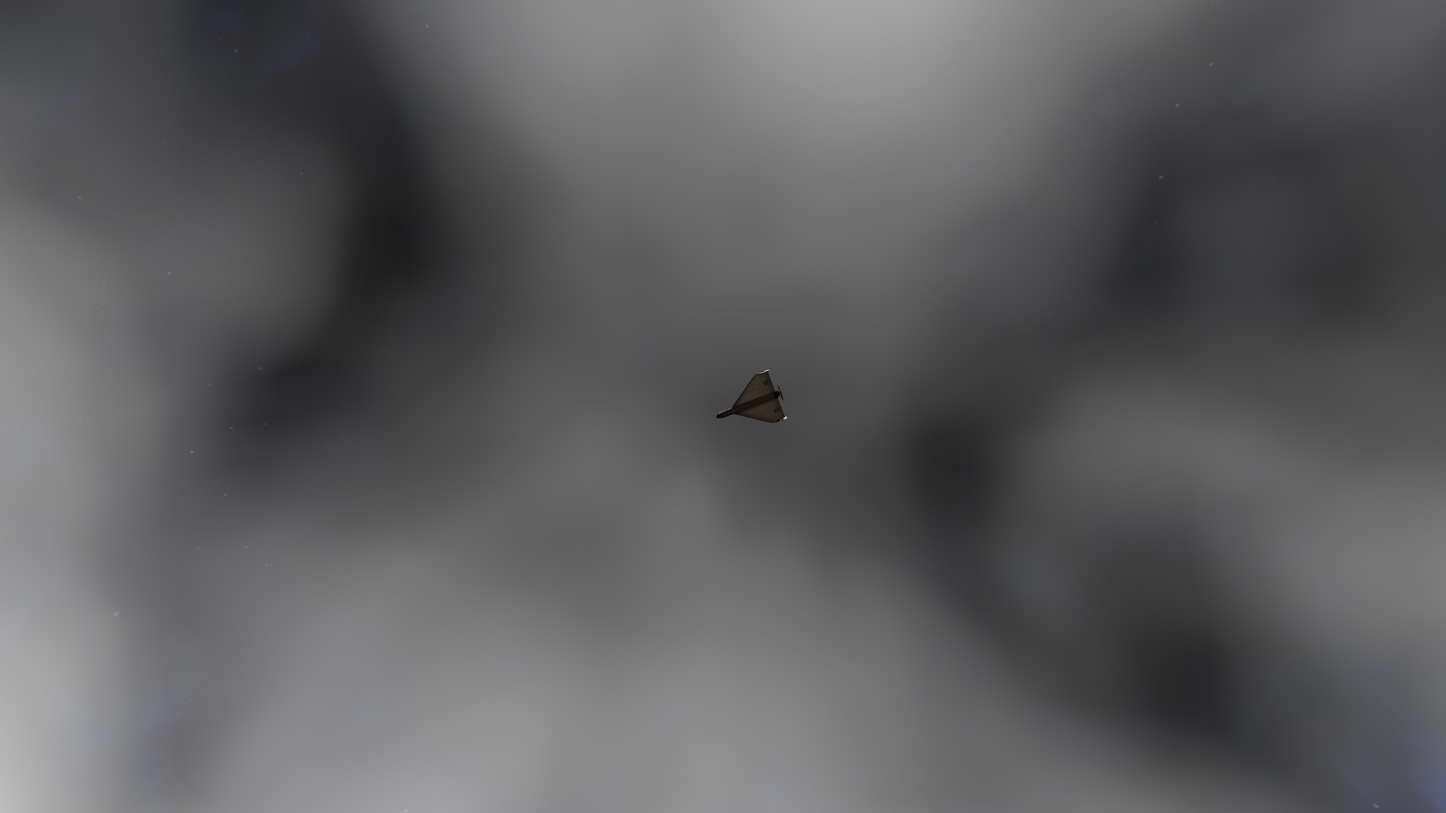shahed: (716, 370, 788, 423)
